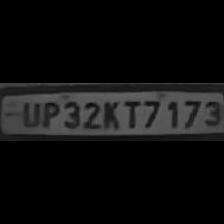1: (160, 98, 180, 128)
2: (81, 97, 101, 129)
3: (199, 98, 221, 127), (60, 98, 80, 128)
7: (139, 98, 161, 128), (178, 98, 200, 128)
K: (100, 97, 120, 129)
P: (39, 98, 59, 128)
T: (120, 98, 140, 128)
U: (18, 99, 38, 127)
